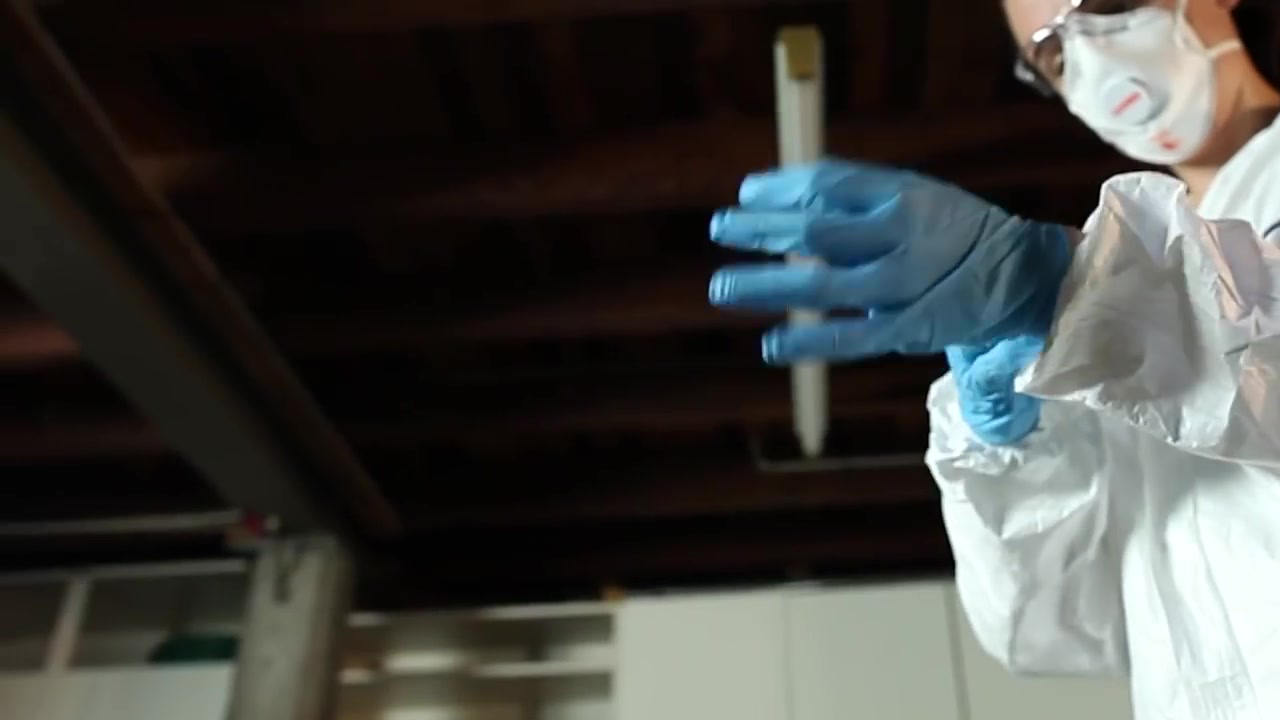Coverall: (988, 127, 1280, 716)
Gloves: (680, 155, 1102, 375)
with_mask: (1027, 11, 1240, 162)
